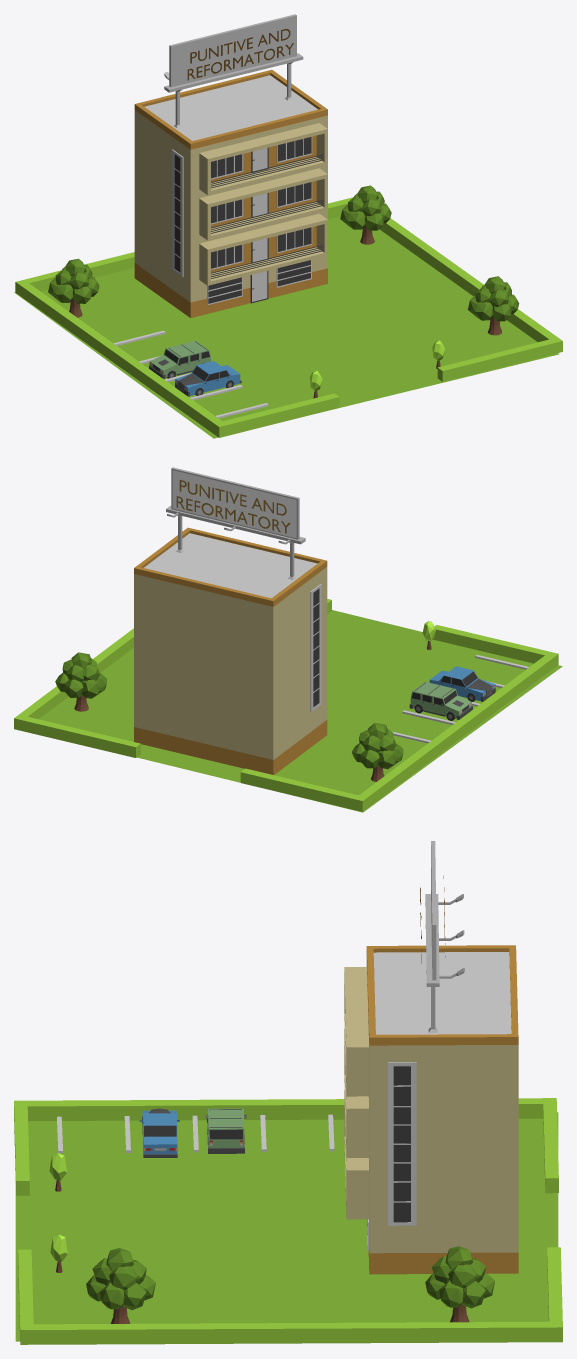
The model's file is PUNITIVE.gltf.
3 renders of one model, top to bottom at view 1: azimuth 30°, elevation 25°; view 2: azimuth 150°, elevation 25°; view 3: azimuth 270°, elevation 25°, orthographic. The views are drawn at different scales.
Visible parts, largest first — view 1: Natures_Grass Tile_Plane.010, Building_Residential_color01_Cube.013, Props_BillBoard_large_Cube.528, Natures_Grass Fence_Cube.001, Natures_Grass Fence_Cube.2536, Natures_Grass Fence_Cube.004, Natures_Grass Fence_Cube.003, Natures_Big Tree_Mesh.008, Natures_Big Tree_Mesh.001, Natures_Big Tree_Mesh.002, Vehicle_Car_Cube.003, Vehicle_SUV_Cube.096 (+2 smaller); view 2: Building_Residential_color01_Cube.013, Natures_Grass Tile_Plane.010, Props_BillBoard_large_Cube.528, Natures_Grass Fence_Cube.001, Natures_Grass Fence_Cube.002, Natures_Grass Fence_Cube.005, Natures_Big Tree_Mesh.001, Natures_Grass Fence_Cube.003, Natures_Big Tree_Mesh.002, Vehicle_SUV_Cube.096, Natures_Grass Fence_Cube.2536, Vehicle_Car_Cube.003 (+1 smaller); view 3: Natures_Grass Tile_Plane.010, Building_Residential_color01_Cube.013, Natures_Grass Fence_Cube.2536, Natures_Grass Fence_Cube.001, Natures_Big Tree_Mesh.001, Natures_Big Tree_Mesh.008, Props_BillBoard_large_Cube.528, Vehicle_SUV_Cube.096, Vehicle_Car_Cube.003, Natures_Grass Fence_Cube.002, Natures_Grass Fence_Cube.004, Natures_Grass Fence_Cube.005 (+1 smaller).
Boxes of the visible parts, x1=… form: Natures_Grass Tile_Plane.010: x1=14, y1=216, x2=559, y2=438; Building_Residential_color01_Cube.013: x1=134, y1=69, x2=327, y2=317; Props_BillBoard_large_Cube.528: x1=164, y1=14, x2=303, y2=127; Natures_Grass Fence_Cube.001: x1=16, y1=280, x2=223, y2=436; Natures_Grass Fence_Cube.2536: x1=351, y1=197, x2=559, y2=342; Natures_Grass Fence_Cube.004: x1=437, y1=337, x2=562, y2=381; Natures_Grass Fence_Cube.003: x1=214, y1=393, x2=339, y2=437; Natures_Big Tree_Mesh.008: x1=467, y1=276, x2=519, y2=335; Natures_Big Tree_Mesh.001: x1=340, y1=185, x2=391, y2=244; Natures_Big Tree_Mesh.002: x1=48, y1=258, x2=99, y2=317; Vehicle_Car_Cube.003: x1=175, y1=361, x2=241, y2=396; Vehicle_SUV_Cube.096: x1=149, y1=340, x2=210, y2=378; Building_Residential_color01_Cube.013: x1=134, y1=527, x2=327, y2=774; Natures_Grass Tile_Plane.010: x1=39, y1=610, x2=562, y2=812; Props_BillBoard_large_Cube.528: x1=166, y1=467, x2=305, y2=579; Natures_Grass Fence_Cube.001: x1=355, y1=652, x2=557, y2=807; Natures_Grass Fence_Cube.002: x1=240, y1=768, x2=367, y2=811; Natures_Grass Fence_Cube.005: x1=14, y1=714, x2=140, y2=757; Natures_Big Tree_Mesh.001: x1=55, y1=652, x2=106, y2=711; Natures_Grass Fence_Cube.003: x1=433, y1=625, x2=558, y2=667; Natures_Big Tree_Mesh.002: x1=352, y1=723, x2=403, y2=781; Vehicle_SUV_Cube.096: x1=409, y1=681, x2=472, y2=720; Natures_Grass Fence_Cube.2536: x1=19, y1=628, x2=133, y2=719; Vehicle_Car_Cube.003: x1=429, y1=666, x2=495, y2=701; Natures_Grass Tile_Plane.010: x1=15, y1=1112, x2=558, y2=1341; Building_Residential_color01_Cube.013: x1=344, y1=945, x2=518, y2=1274; Natures_Grass Fence_Cube.2536: x1=20, y1=1321, x2=562, y2=1344; Natures_Grass Fence_Cube.001: x1=14, y1=1098, x2=556, y2=1120; Natures_Big Tree_Mesh.001: x1=425, y1=1246, x2=494, y2=1322; Natures_Big Tree_Mesh.008: x1=86, y1=1248, x2=155, y2=1323; Props_BillBoard_large_Cube.528: x1=425, y1=841, x2=464, y2=1032; Vehicle_SUV_Cube.096: x1=205, y1=1108, x2=246, y2=1153; Vehicle_Car_Cube.003: x1=139, y1=1108, x2=179, y2=1157; Natures_Grass Fence_Cube.002: x1=543, y1=1098, x2=558, y2=1193; Natures_Grass Fence_Cube.004: x1=18, y1=1249, x2=33, y2=1344; Natures_Grass Fence_Cube.005: x1=547, y1=1247, x2=562, y2=1342.
Size of the model in its own units: 40.56 by 27.99 by 40.46.
Materials: 23 (21 with a texture image).
